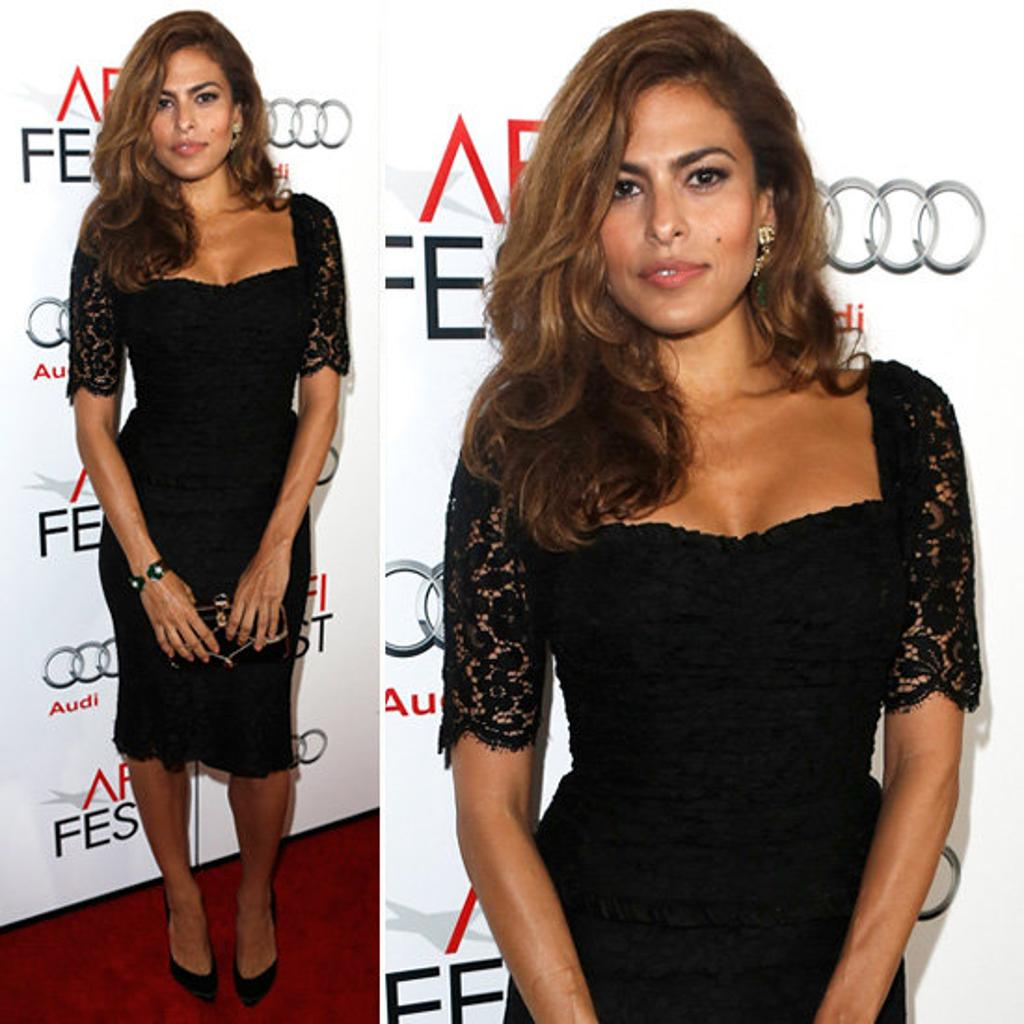face: (588, 94, 762, 334), (142, 46, 236, 178)
